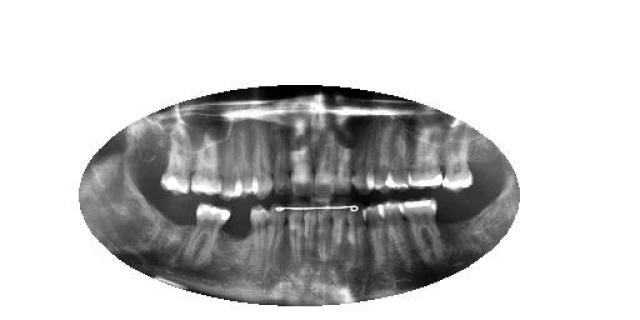Fillings: (186, 201, 232, 265), (160, 136, 191, 196)
